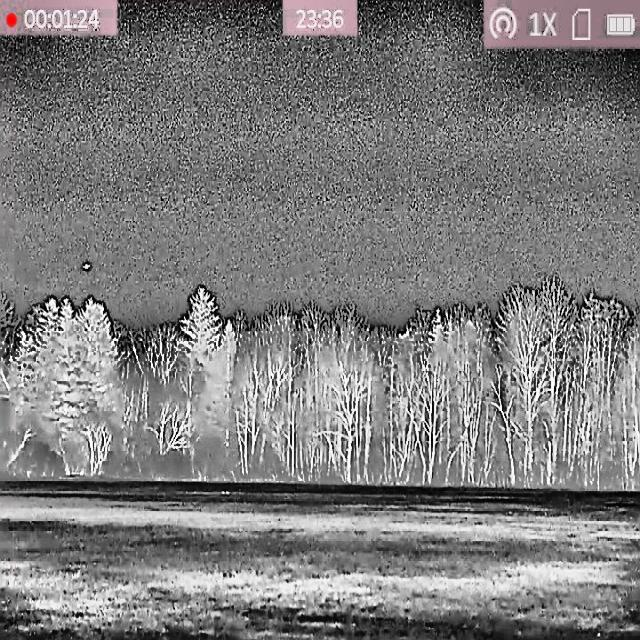drone: (81, 262, 92, 272)
